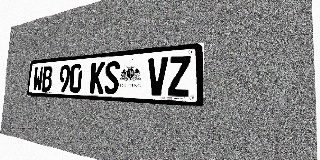0: (69, 63, 83, 93)
9: (58, 64, 71, 92)
B: (41, 66, 53, 92)
K: (90, 62, 105, 94)
S: (104, 61, 120, 94)
V: (147, 57, 168, 96)
W: (33, 66, 43, 91)
Z: (168, 55, 191, 97)
